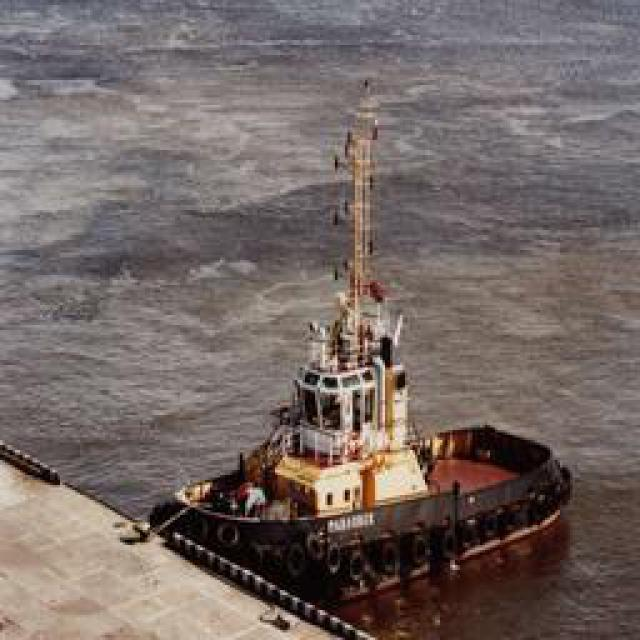Ship: (139, 281, 572, 611)
